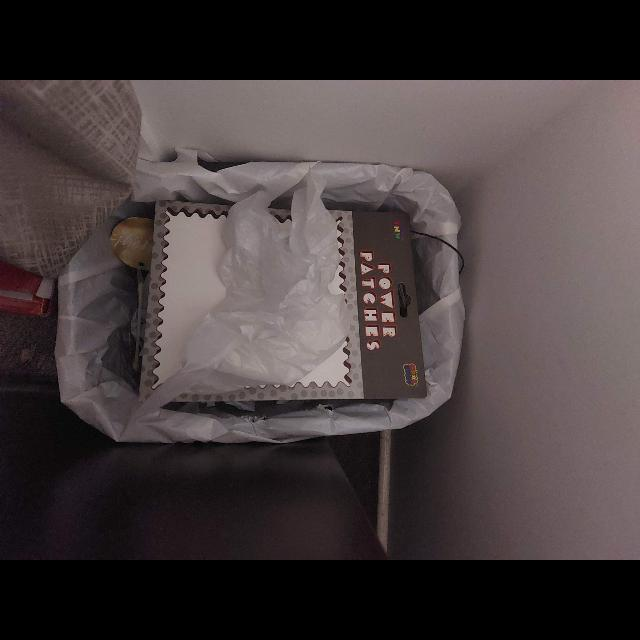paper: (171, 211, 426, 403), (181, 171, 350, 388), (138, 201, 230, 403)
